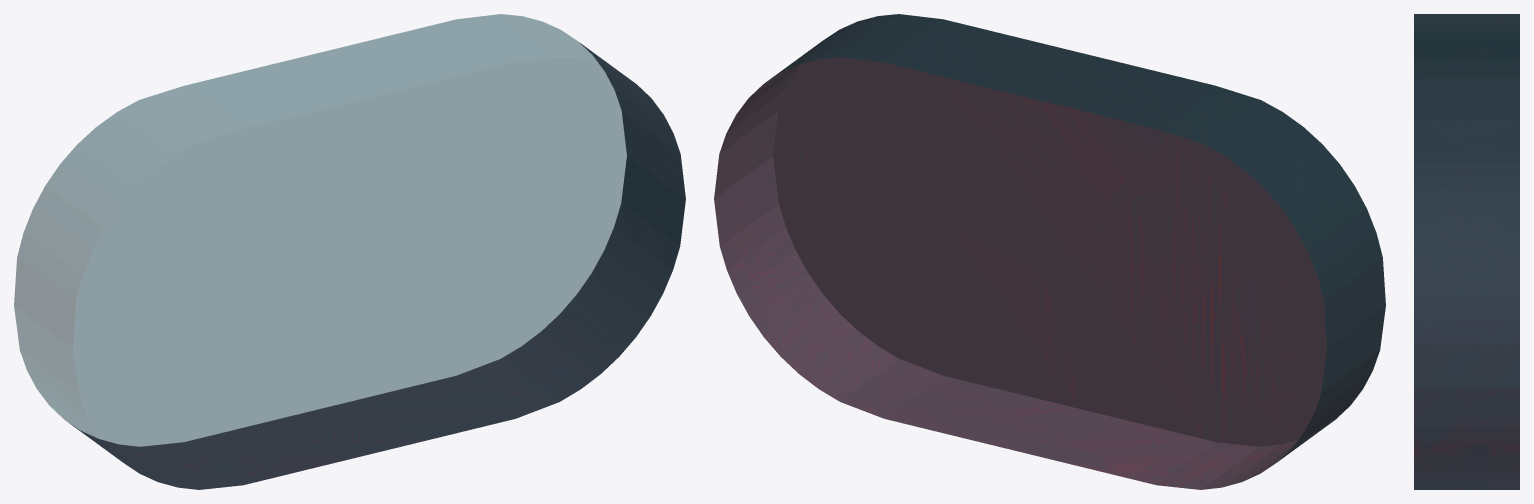
Rendered from original-34.obj.
3 views of the same model, side by side, from view 1: azimuth 30°, elevation 25°; view 2: azimuth 150°, elevation 25°; view 3: azimuth 270°, elevation 25° (orthographic). The views are drawn at different scales.
Parts seen in each view (by area): view 1: mesh9/mesh9-geometry/material_0/component_21#mesh9-geometry; view 2: mesh9/mesh9-geometry/material_0/component_21#mesh9-geometry; view 3: mesh9/mesh9-geometry/material_0/component_21#mesh9-geometry.
Boxes of the visible parts, box(x1,y1,x2,y2) form: mesh9/mesh9-geometry/material_0/component_21#mesh9-geometry: box(14, 14, 685, 489); mesh9/mesh9-geometry/material_0/component_21#mesh9-geometry: box(714, 14, 1385, 489); mesh9/mesh9-geometry/material_0/component_21#mesh9-geometry: box(1414, 14, 1519, 489).
Bounding box in the file's own units: 0.091 × 0.0506 × 0.0152.
